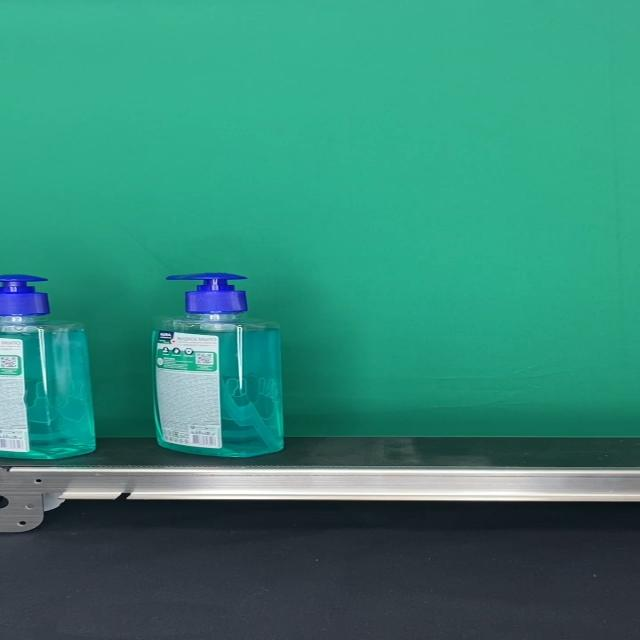Bottle: (150, 273, 284, 457)
Cap: (170, 272, 252, 314)
